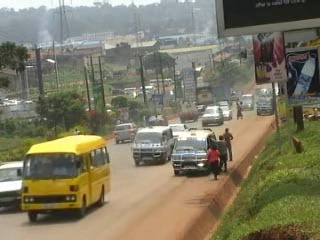Car: (112, 121, 138, 146), (164, 120, 189, 144), (145, 112, 169, 129), (218, 105, 234, 122), (212, 99, 231, 110)
